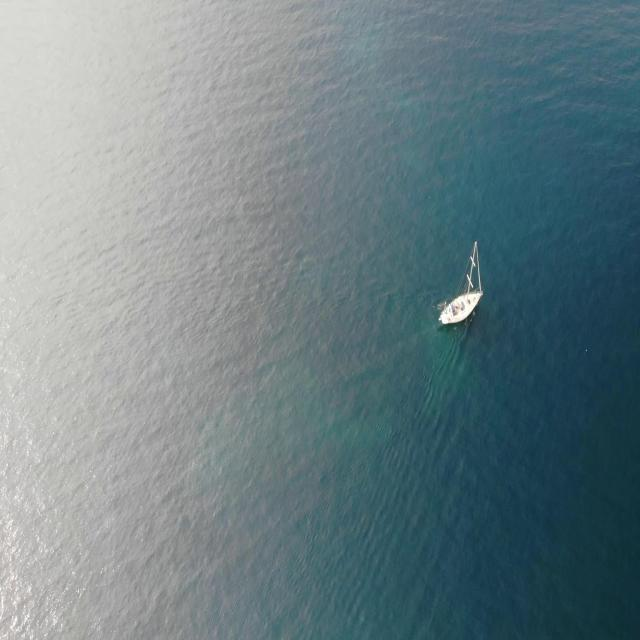sailboat: (438, 238, 483, 328)
